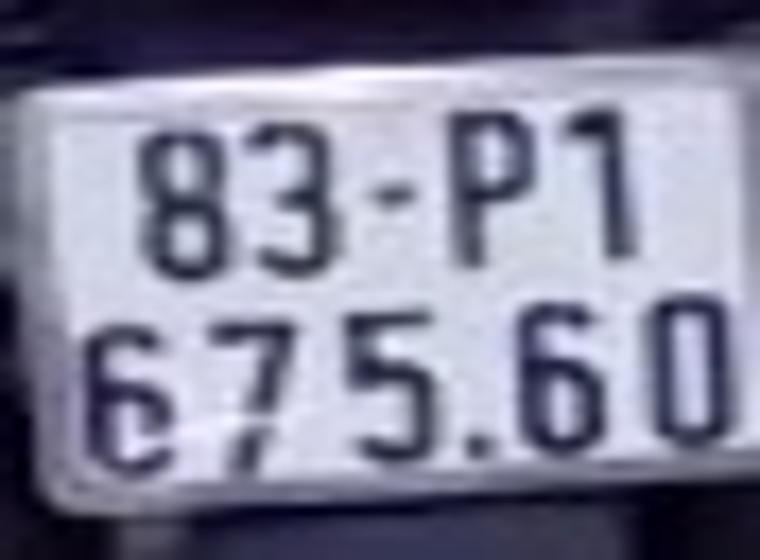-: (366, 171, 419, 222)
.: (459, 419, 498, 467)
0: (636, 284, 737, 453)
1: (561, 95, 649, 267)
3: (251, 112, 334, 280)
5: (334, 300, 443, 474)
6: (77, 317, 179, 490), (511, 290, 606, 458)
7: (203, 307, 295, 490)
8: (132, 114, 245, 288)
P: (439, 100, 539, 284)
